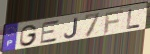7: (84, 12, 103, 39)
E: (40, 19, 60, 45)
F: (103, 9, 124, 34)
G: (19, 24, 39, 47)
J: (64, 17, 79, 39)
L: (126, 8, 142, 30)
